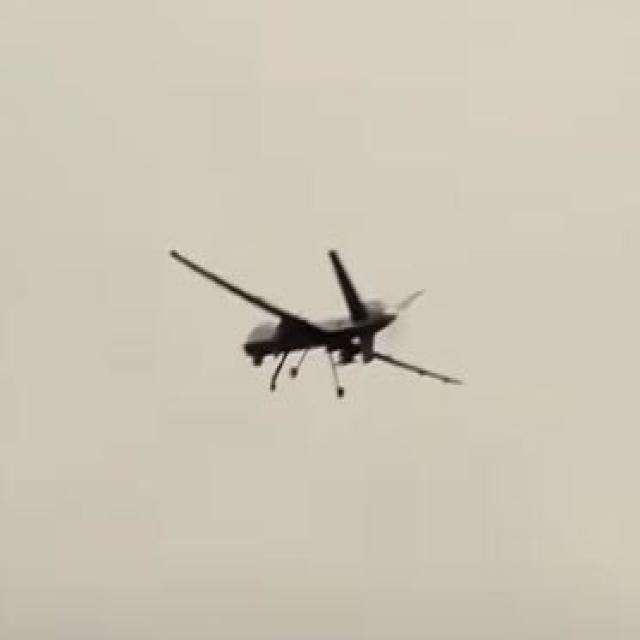iha: (167, 246, 465, 400)
